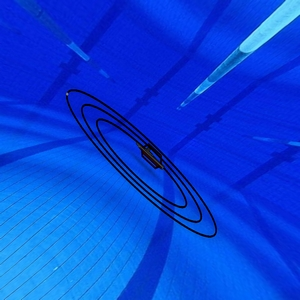circle: (62, 87, 221, 240)
submarine: (134, 140, 169, 173)
